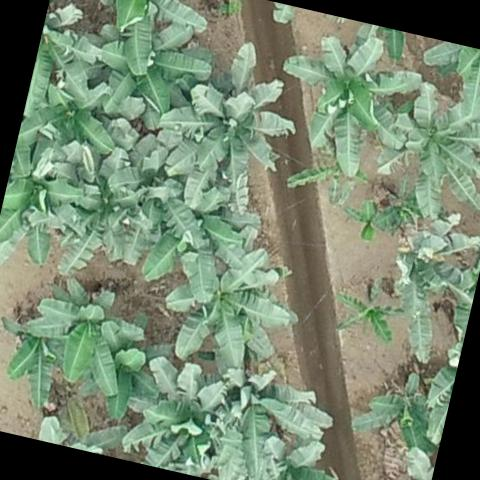Banana-plant: (148, 29, 311, 220), (156, 234, 309, 390), (266, 22, 422, 171), (367, 70, 480, 228), (133, 180, 260, 306), (22, 272, 152, 394), (378, 206, 478, 362), (90, 14, 217, 134), (213, 364, 337, 480), (42, 140, 146, 278), (115, 348, 231, 470), (351, 356, 455, 457), (13, 78, 118, 177), (24, 4, 109, 125), (0, 151, 82, 271), (0, 313, 73, 408), (87, 338, 163, 418), (87, 0, 215, 46), (411, 36, 480, 120), (289, 146, 369, 204), (334, 287, 404, 342), (345, 198, 399, 241)
